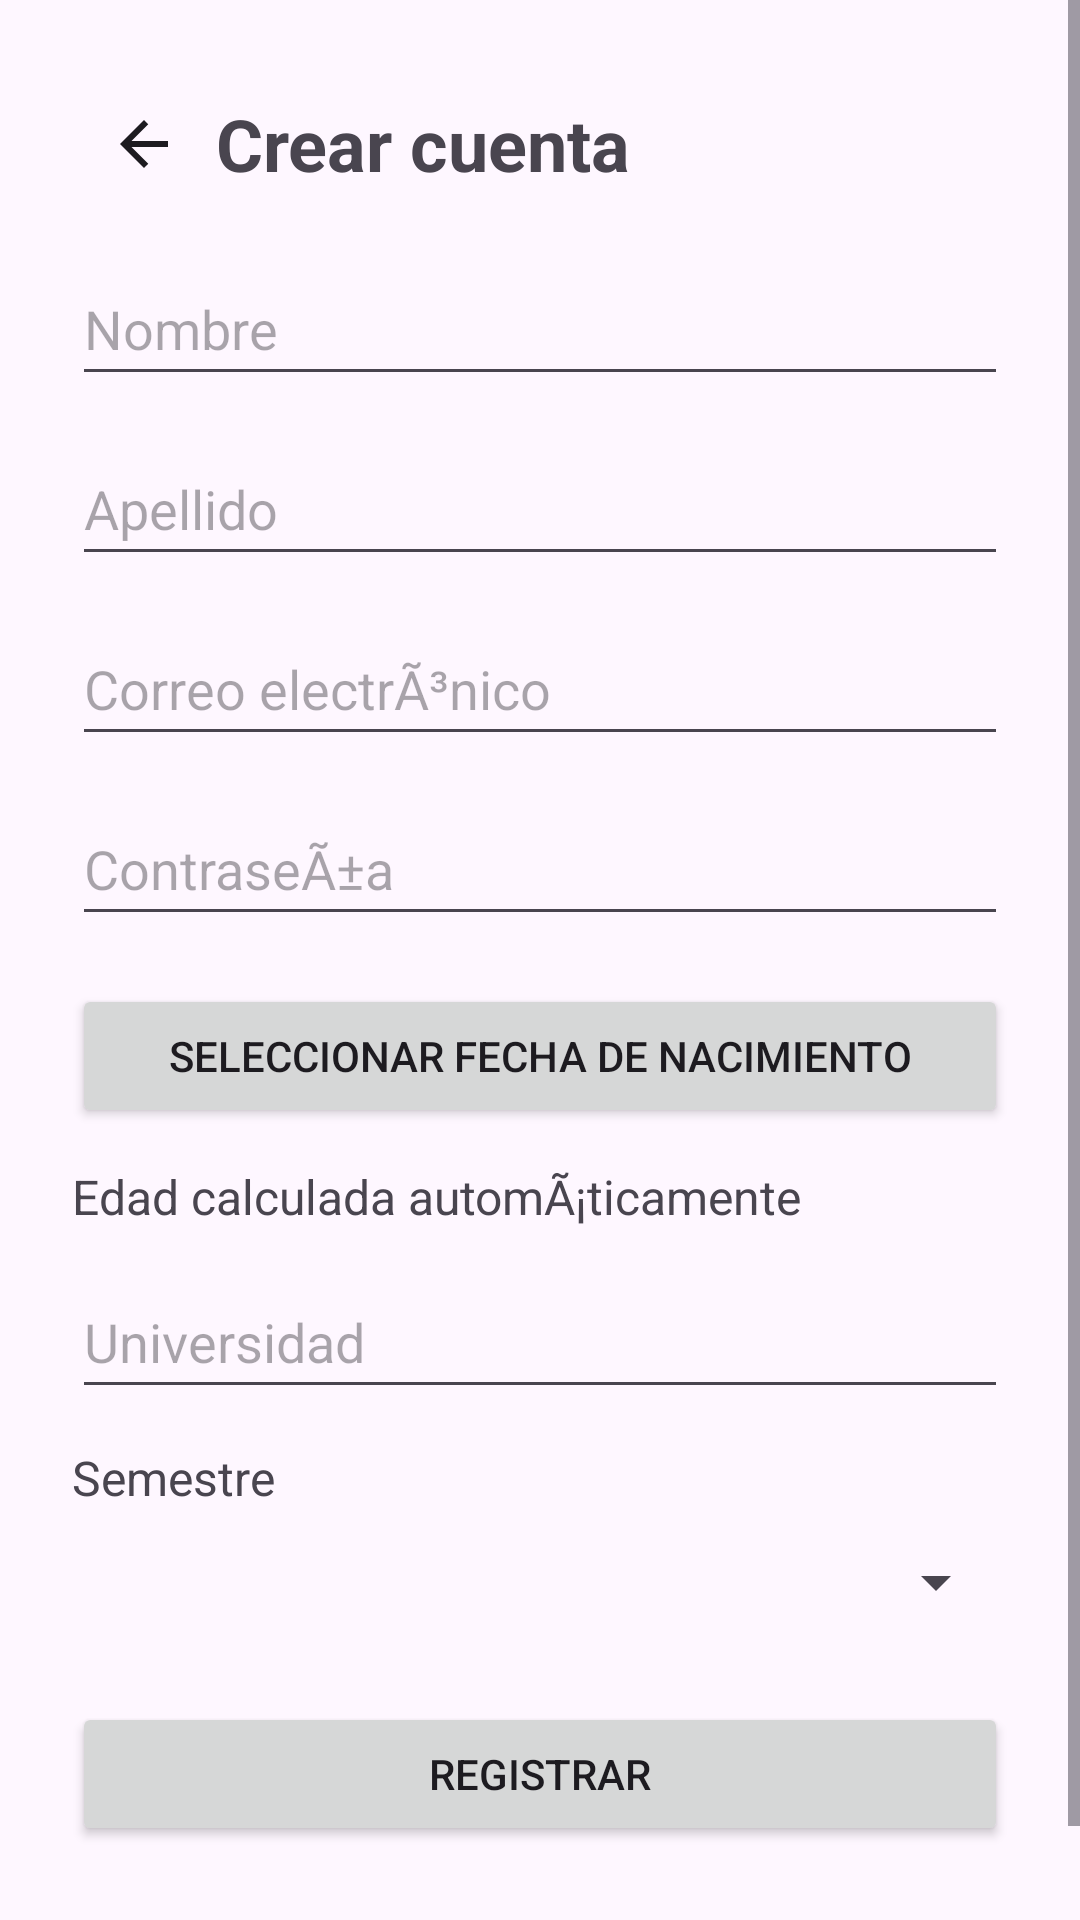

Screen size 1080 × 1920. Icon name, then its center in pixels as point (x, y):
Regresar a la pantalla anterior: point (144, 144)
